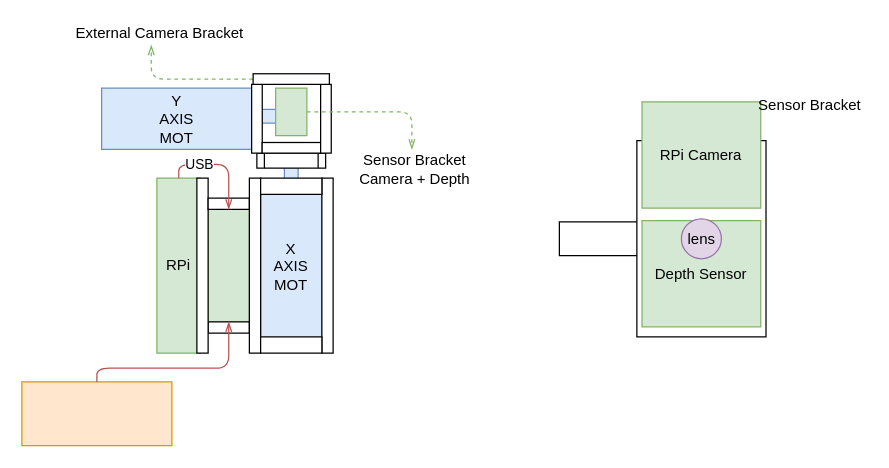
This 889x468 diagram has some shape labels left out. Here are the shapes that lost their labels. From the top down, the box of each, then its label:
(558, 221, 709, 256): AXIS
(207, 208, 249, 322): MCU BRD
(21, 381, 172, 446): < 12V < 1.5A Adapter
